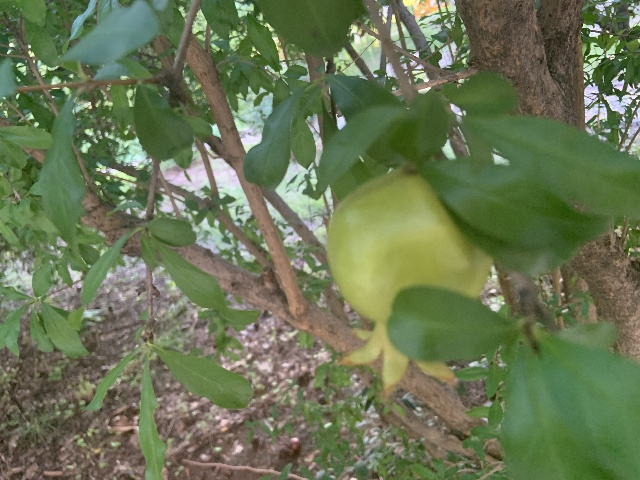early-fruit: (325, 170, 490, 400)
